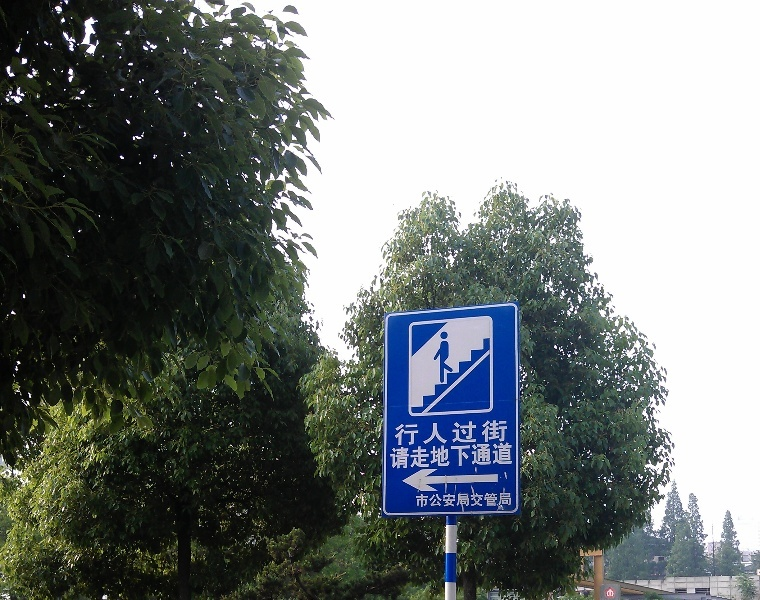text: (401, 441, 416, 471), (417, 441, 432, 471), (433, 441, 448, 471), (449, 441, 464, 471), (465, 441, 480, 471), (481, 441, 496, 471), (497, 441, 512, 471), (401, 419, 416, 446), (417, 419, 432, 446), (433, 419, 448, 446), (449, 419, 464, 446), (465, 419, 480, 446), (481, 419, 496, 446), (497, 419, 509, 446), (390, 441, 400, 471), (417, 491, 432, 508), (433, 491, 448, 508), (449, 491, 464, 508), (465, 491, 480, 508), (481, 491, 496, 508), (497, 491, 512, 508), (394, 419, 400, 446), (513, 441, 514, 471), (415, 491, 416, 508), (513, 491, 514, 508)
